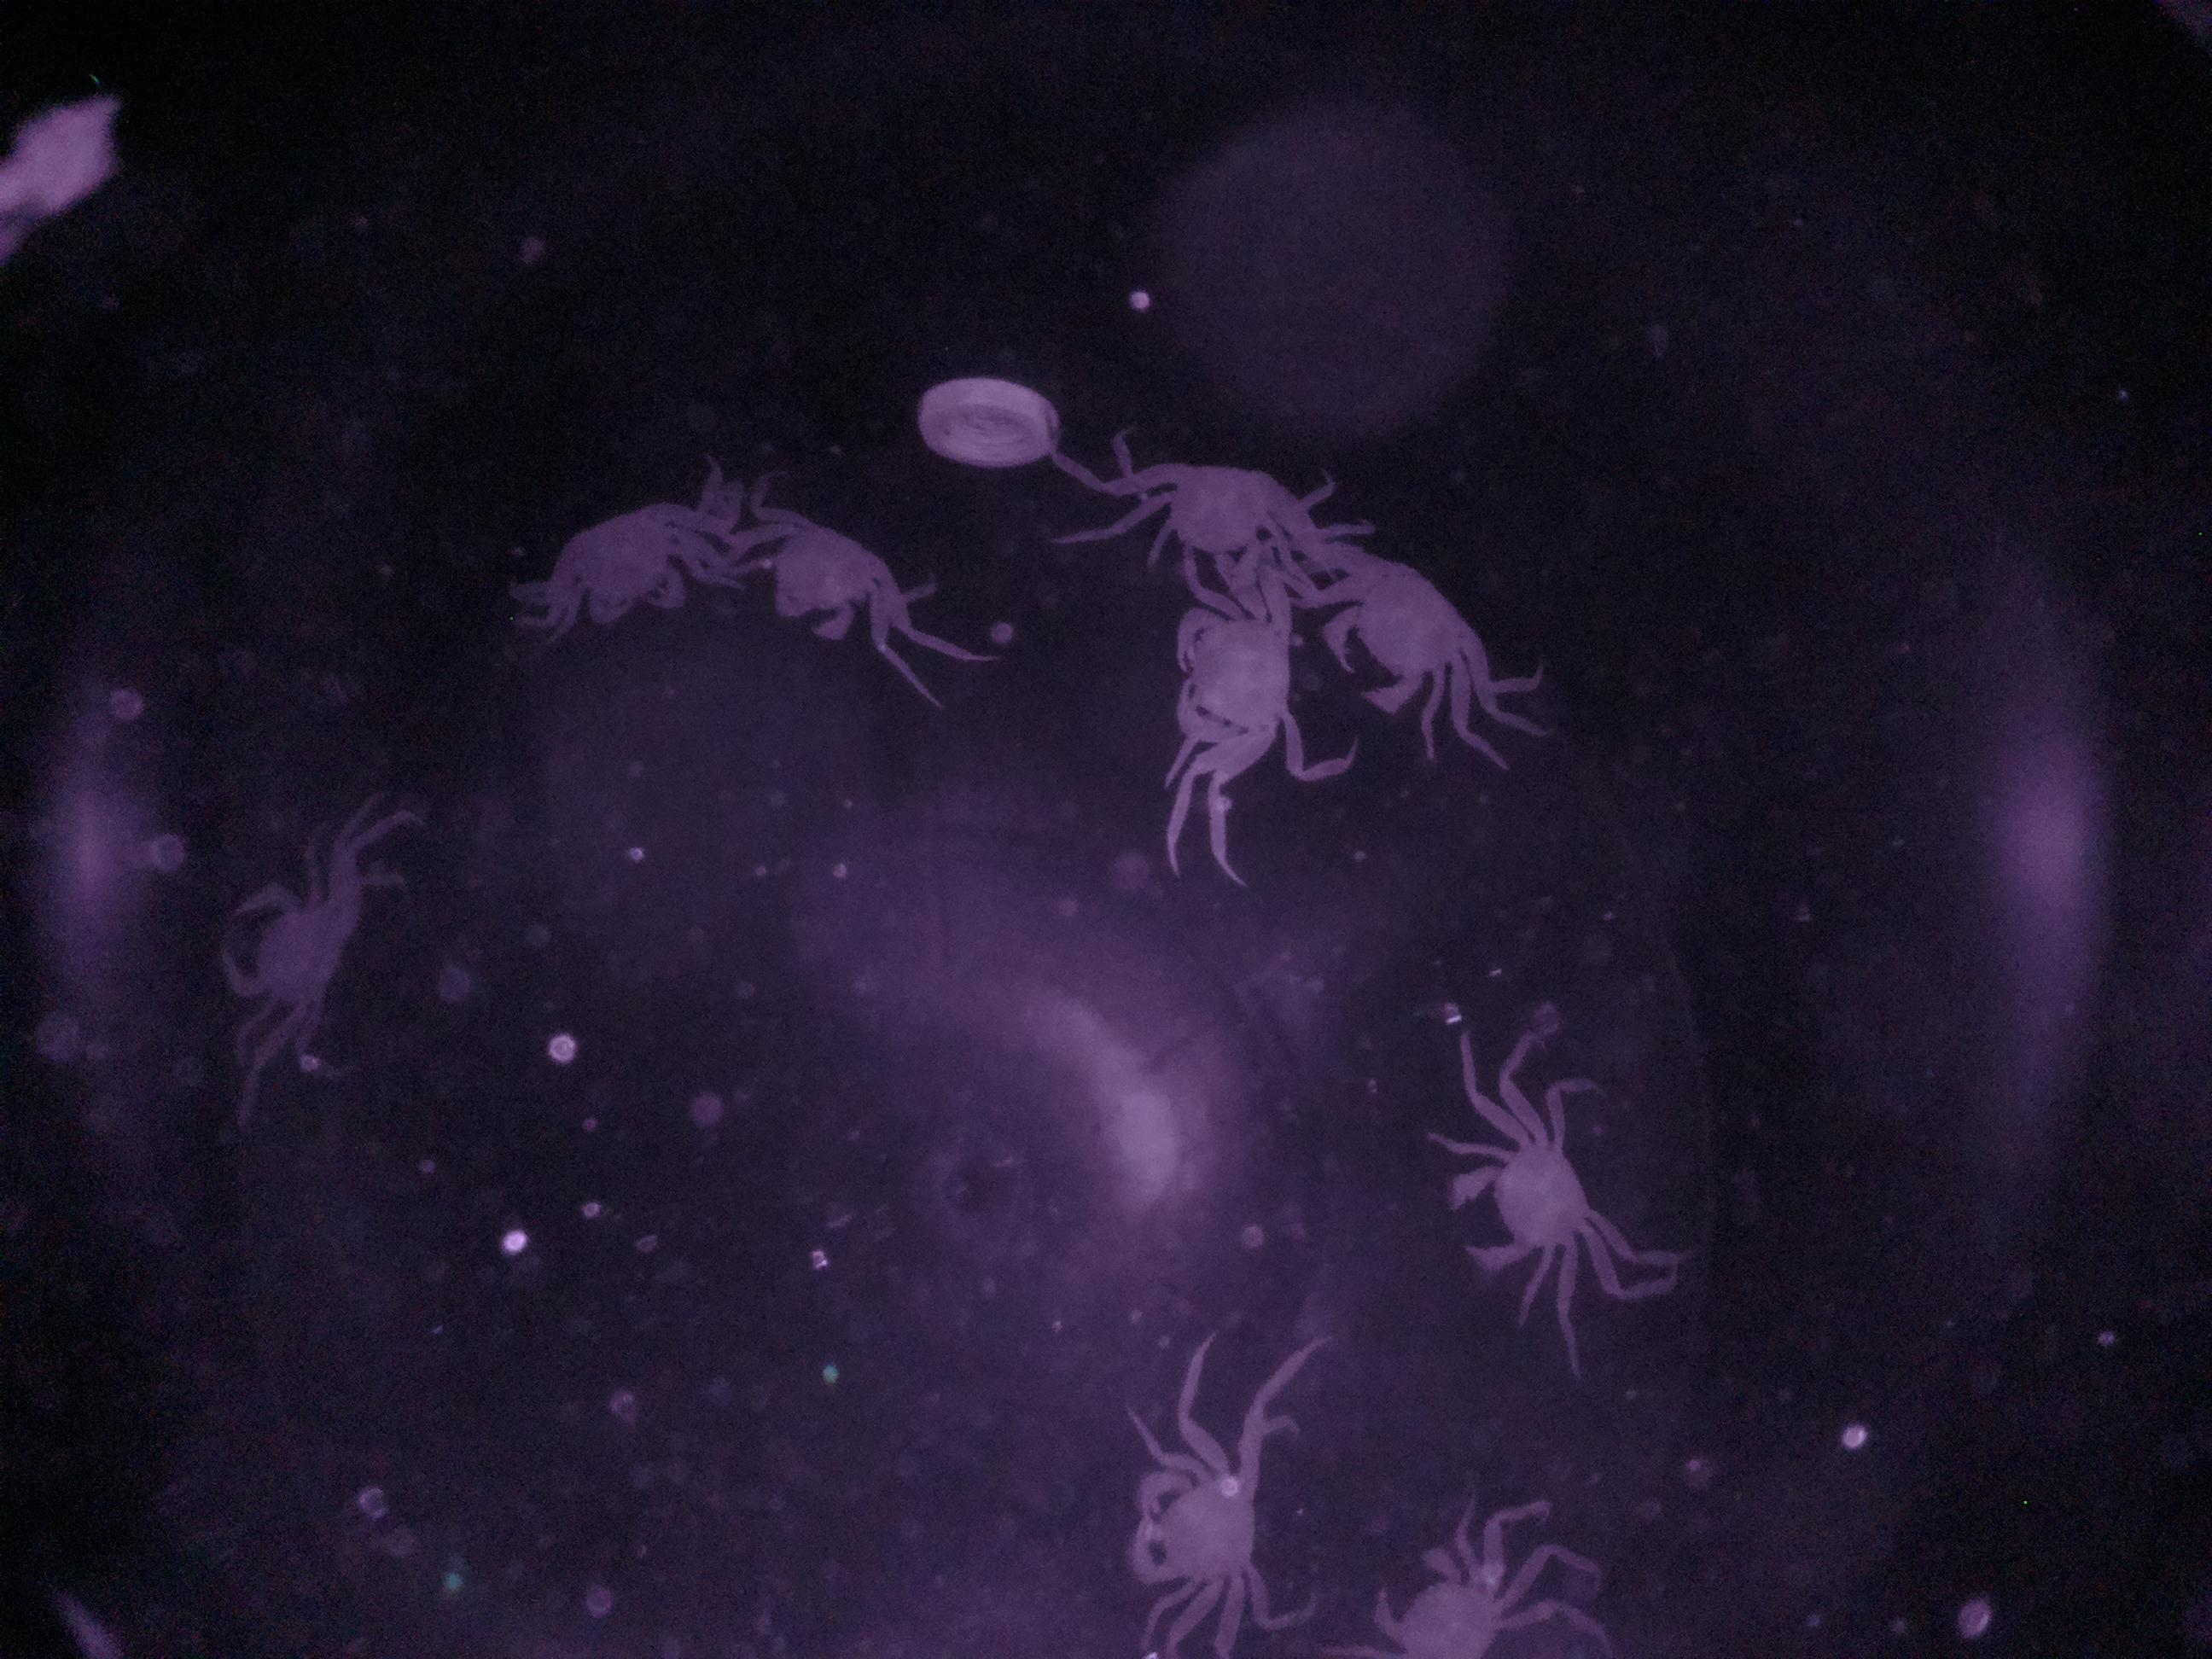Crab: (1433, 1100, 1639, 1291), (1310, 537, 1493, 744), (1085, 429, 1312, 582), (1111, 1432, 1287, 1624), (536, 483, 730, 650), (206, 871, 383, 1042), (1148, 589, 1292, 784), (744, 493, 920, 641)
